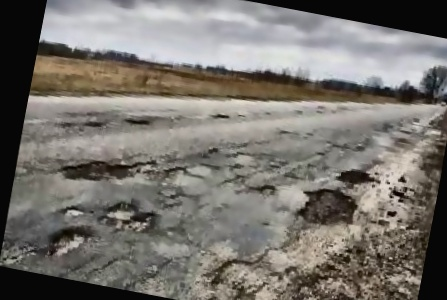pothole: (58, 140, 156, 193), (297, 182, 364, 232), (99, 197, 157, 237), (45, 221, 94, 264), (335, 163, 380, 189), (62, 204, 88, 219)
